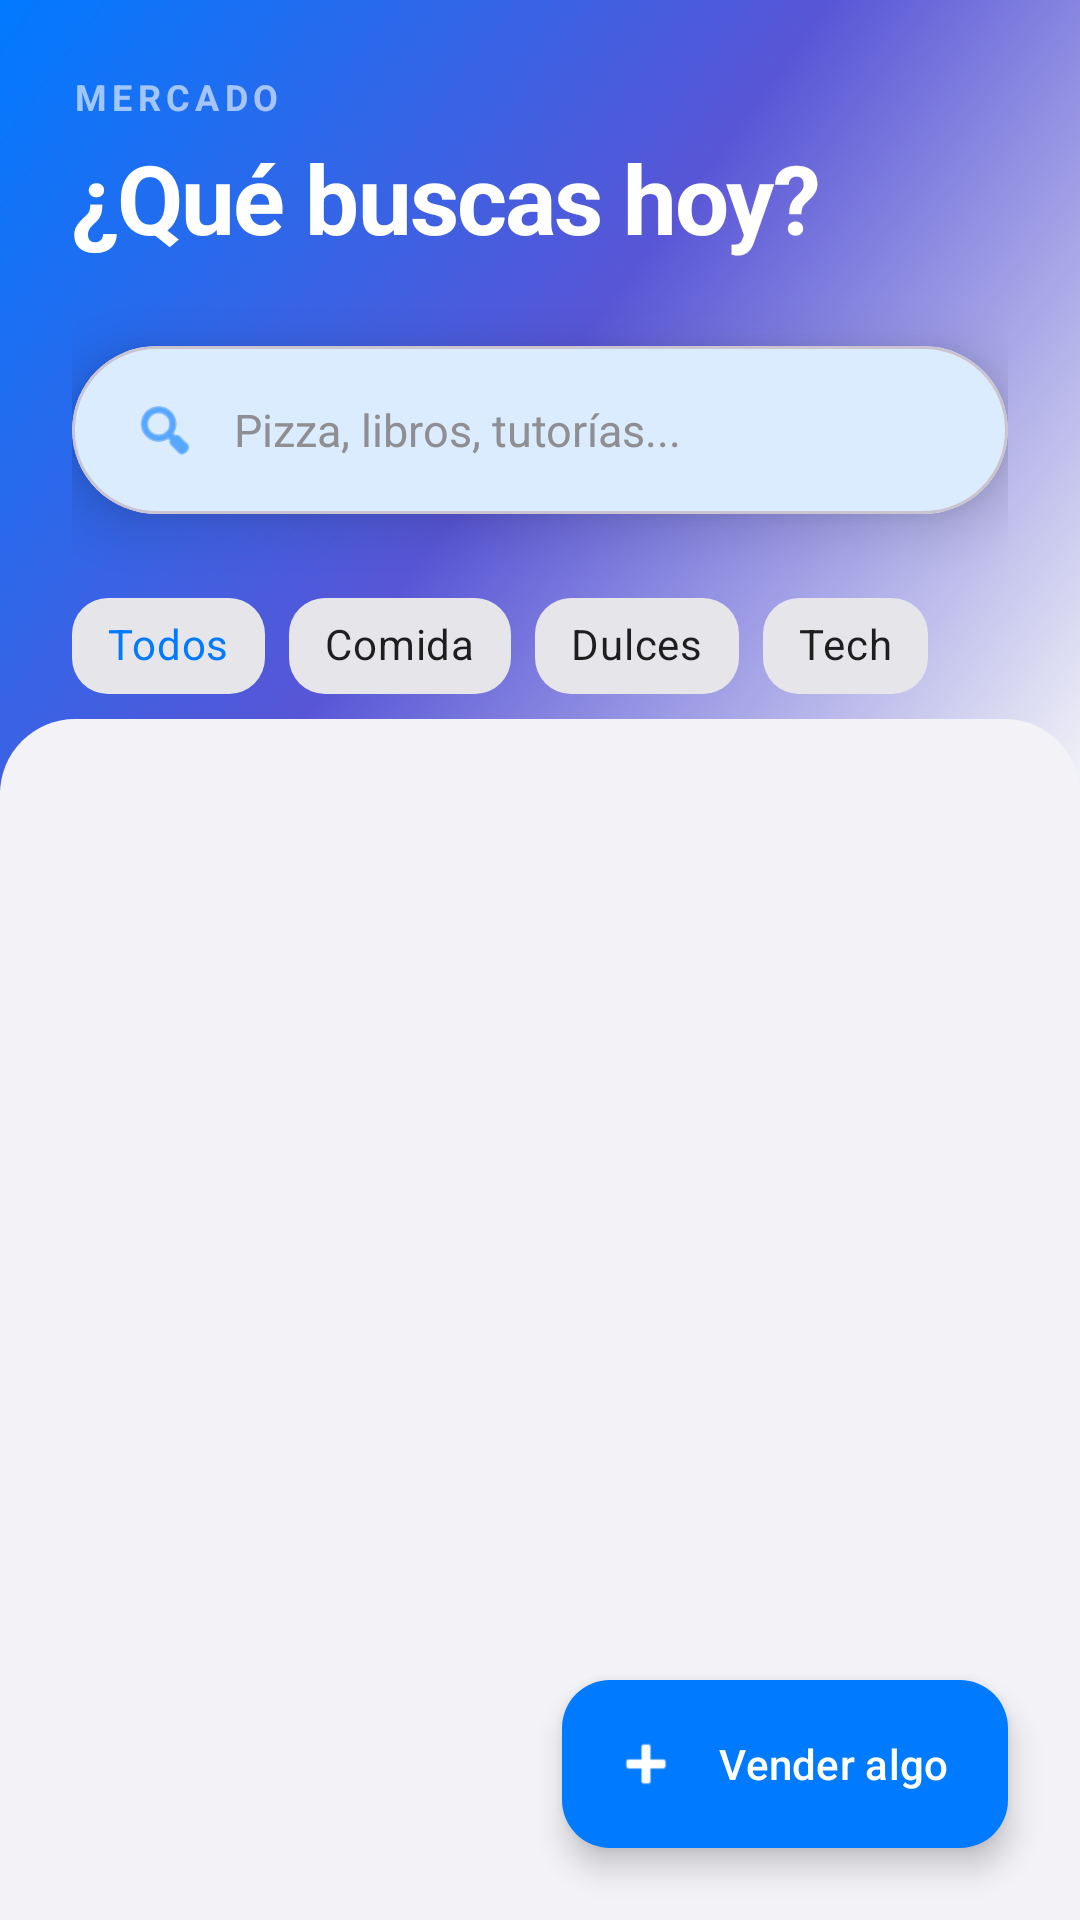

Named icons in this screenshot (1080×1920) and their bounding boxes, (left=x1, top=y1, right=x2, bottom=y2):
search: (left=141, top=406, right=189, bottom=455)
